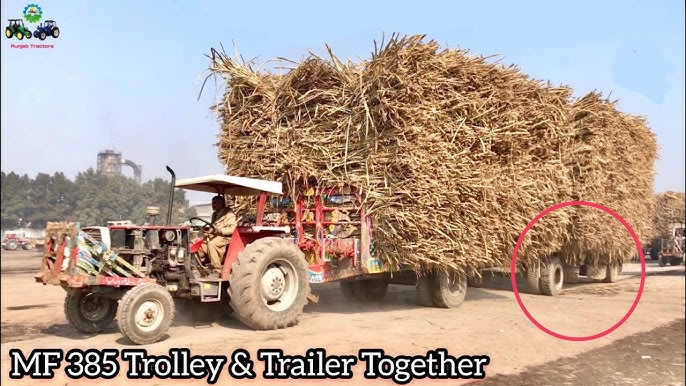wheel: (236, 241, 307, 329), (118, 282, 173, 346), (426, 270, 467, 306), (532, 266, 565, 295)
